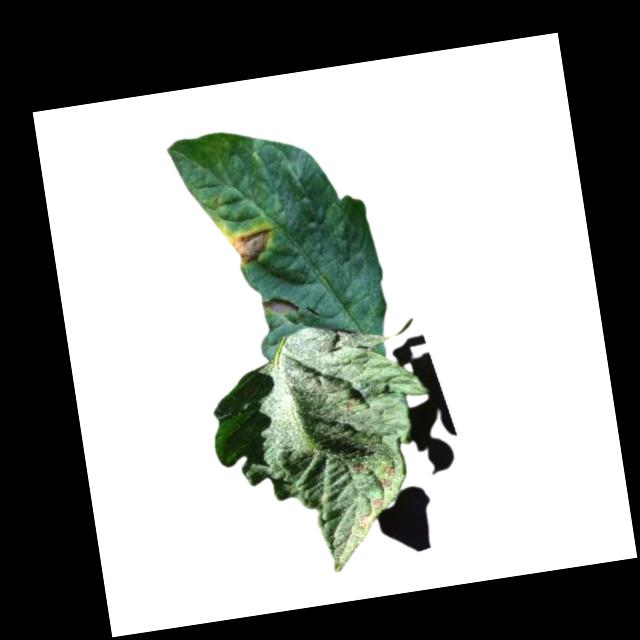Early_blight: (225, 228, 275, 267), (350, 462, 367, 475), (371, 496, 386, 510), (380, 475, 393, 491), (384, 466, 398, 478)
